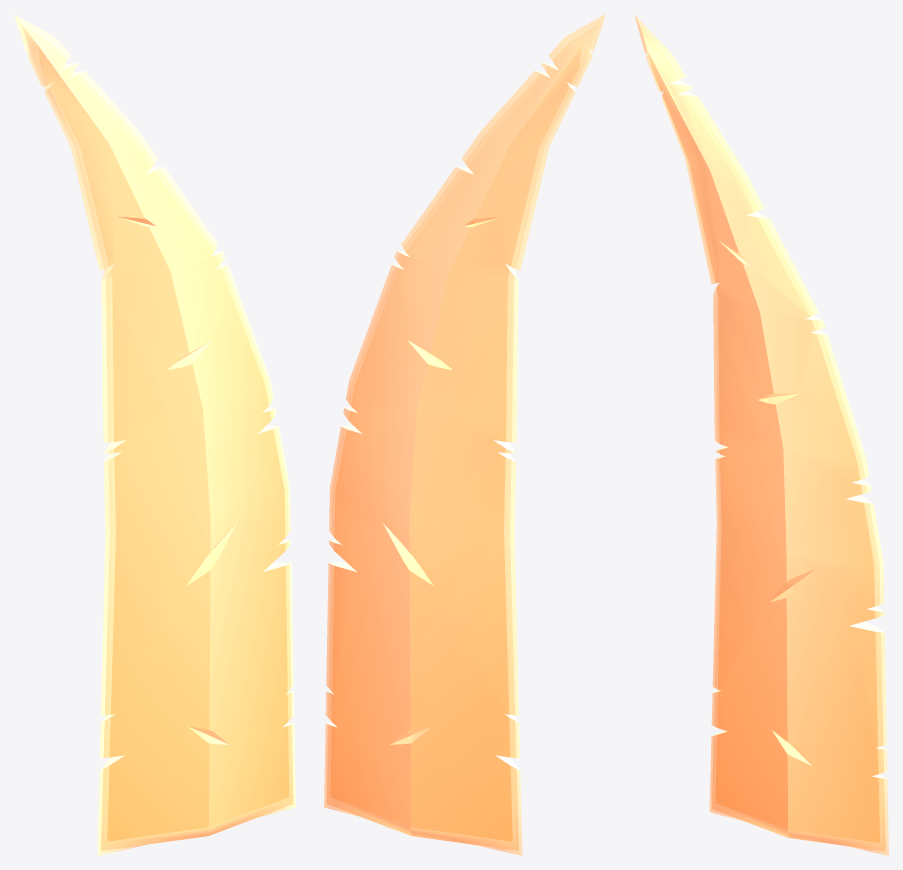
File: wood_blade_scratched_083.glb
3 views of the same model, side by side, from view 1: azimuth 30°, elevation 25°; view 2: azimuth 150°, elevation 25°; view 3: azimuth 330°, elevation 25° (orthographic). The views are drawn at different scales.
Parts seen in each view (by area): view 1: wood_blade_scratched.083; view 2: wood_blade_scratched.083; view 3: wood_blade_scratched.083.
Boxes of the visible parts, x1,y1,x2,y2 form: wood_blade_scratched.083: (14, 14, 295, 855); wood_blade_scratched.083: (324, 14, 605, 855); wood_blade_scratched.083: (634, 14, 888, 855).
Size of the model in its own units: 4.2 by 12.29 by 0.7262.
1 material, 1 textured.
